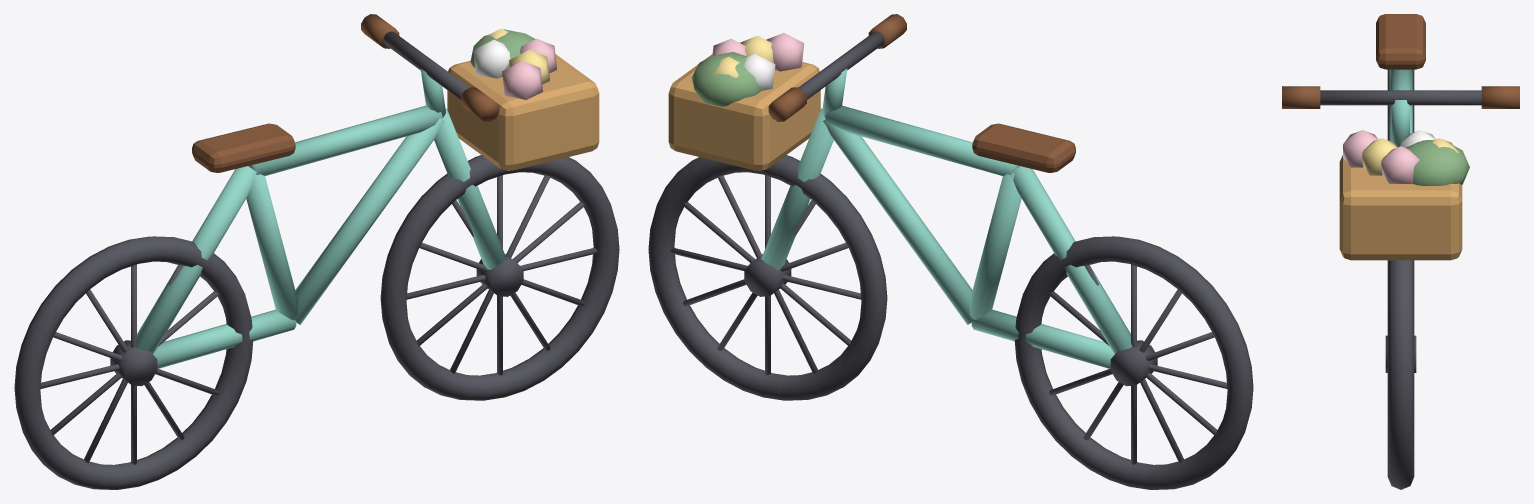
3 renders of one model, left to right at view 1: azimuth 30°, elevation 25°; view 2: azimuth 150°, elevation 25°; view 3: azimuth 270°, elevation 25°, orthographic.
Visible parts, largest first — view 1: Deco bicycle; view 2: Deco bicycle; view 3: Deco bicycle.
Part boxes in pixels (box(x1,y1,x2,y2)): Deco bicycle: box(14, 14, 619, 489); Deco bicycle: box(648, 14, 1253, 489); Deco bicycle: box(1282, 14, 1519, 489).
Bounding box in the file's own units: 1.81 × 1.02 × 0.62.
